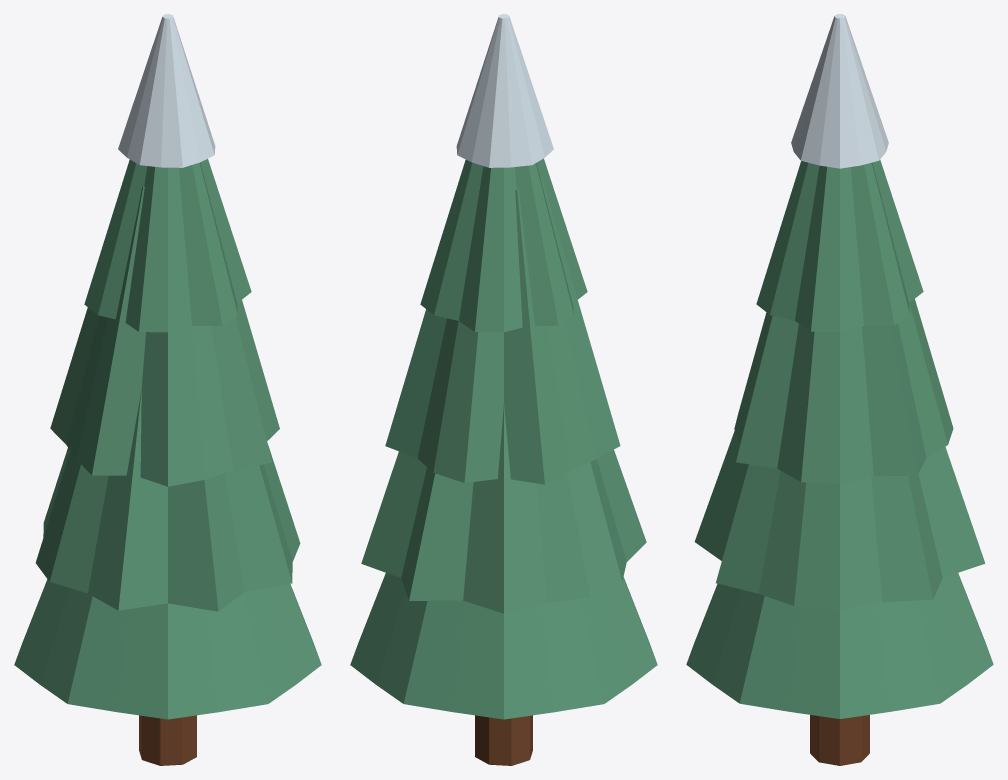
The model's file is dressing-pine.glb.
3 views of the same model, side by side, from view 1: azimuth 30°, elevation 25°; view 2: azimuth 150°, elevation 25°; view 3: azimuth 270°, elevation 25° (orthographic).
Visible parts, largest first — view 1: PineHero_Branch1, PineHero_Branch2, PineHero_Branch0, PineHero_Branch3, PineHero_SnowCap, PineHero_Trunk; view 2: PineHero_Branch1, PineHero_Branch2, PineHero_Branch0, PineHero_Branch3, PineHero_SnowCap, PineHero_Trunk; view 3: PineHero_Branch1, PineHero_Branch0, PineHero_Branch2, PineHero_Branch3, PineHero_SnowCap, PineHero_Trunk.
Boxes of the visible parts, bbox=[...] form: PineHero_Branch1: bbox=[35, 390, 300, 611]; PineHero_Branch2: bbox=[50, 186, 279, 486]; PineHero_Branch0: bbox=[14, 579, 321, 719]; PineHero_Branch3: bbox=[84, 159, 251, 332]; PineHero_SnowCap: bbox=[118, 14, 215, 167]; PineHero_Trunk: bbox=[139, 715, 196, 765]; PineHero_Branch1: bbox=[361, 405, 646, 613]; PineHero_Branch2: bbox=[385, 177, 620, 484]; PineHero_Branch0: bbox=[350, 573, 657, 719]; PineHero_Branch3: bbox=[420, 158, 587, 332]; PineHero_SnowCap: bbox=[456, 14, 553, 167]; PineHero_Trunk: bbox=[475, 715, 532, 765]; PineHero_Branch1: bbox=[694, 431, 985, 610]; PineHero_Branch0: bbox=[686, 573, 993, 718]; PineHero_Branch2: bbox=[734, 291, 953, 483]; PineHero_Branch3: bbox=[756, 160, 923, 332]; PineHero_SnowCap: bbox=[791, 14, 888, 168]; PineHero_Trunk: bbox=[810, 715, 869, 765].
Bounding box in the file's own units: 4.64 × 12.41 × 4.69.
